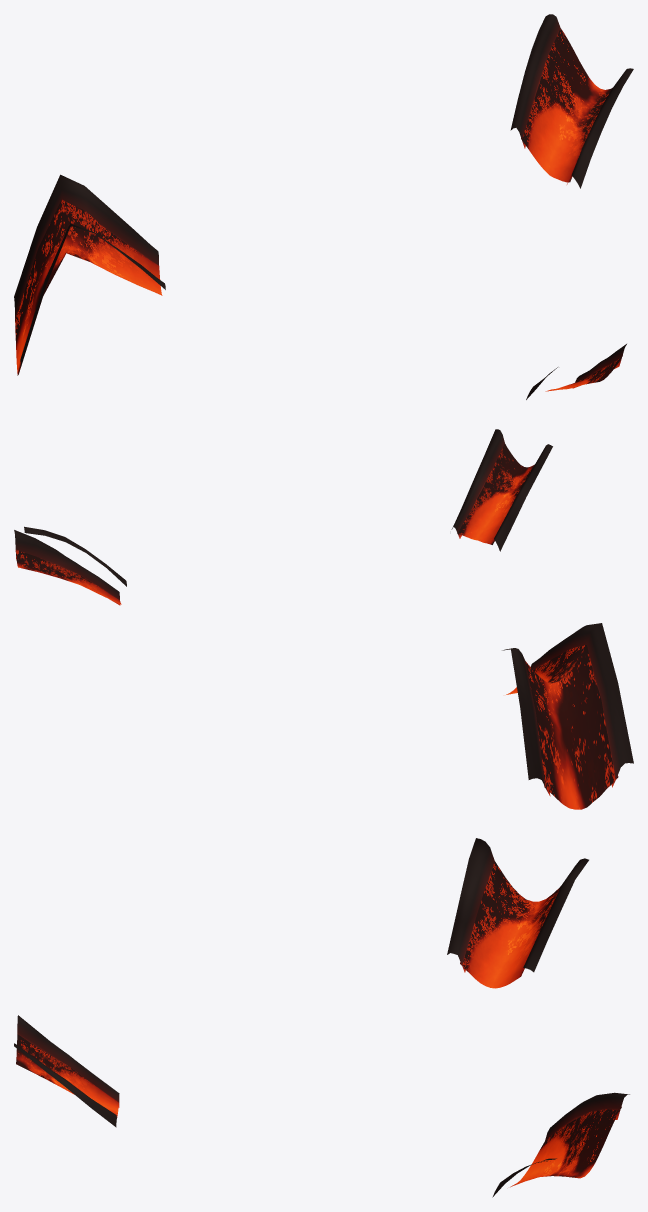
File: lava_seg_1.glb
3 renders of one model, top to bottom at view 1: azimuth 30°, elevation 25°; view 2: azimuth 150°, elevation 25°; view 3: azimuth 270°, elevation 25°, orthographic. The views are drawn at different scales.
Visible parts, largest first — view 1: seg; view 2: seg; view 3: seg.
Part boxes in pixels (x1,y1,x2,y2): seg: (14,14,633,399); seg: (14,429,633,809); seg: (14,838,629,1197).
Size of the model in its own units: 38.04 by 10.97 by 30.68.
